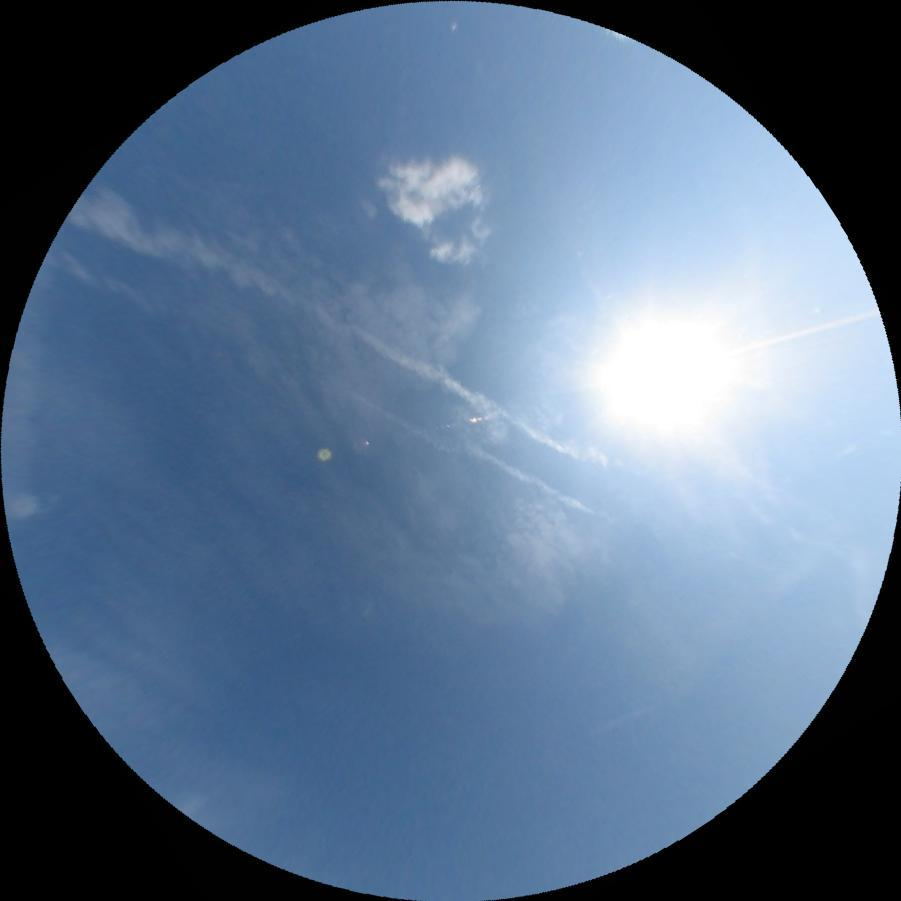contrail veryold: (67, 178, 621, 474), (339, 388, 599, 516)
contrail young: (590, 701, 649, 737)
parasite: (733, 297, 875, 347)
sun: (587, 278, 754, 448)
